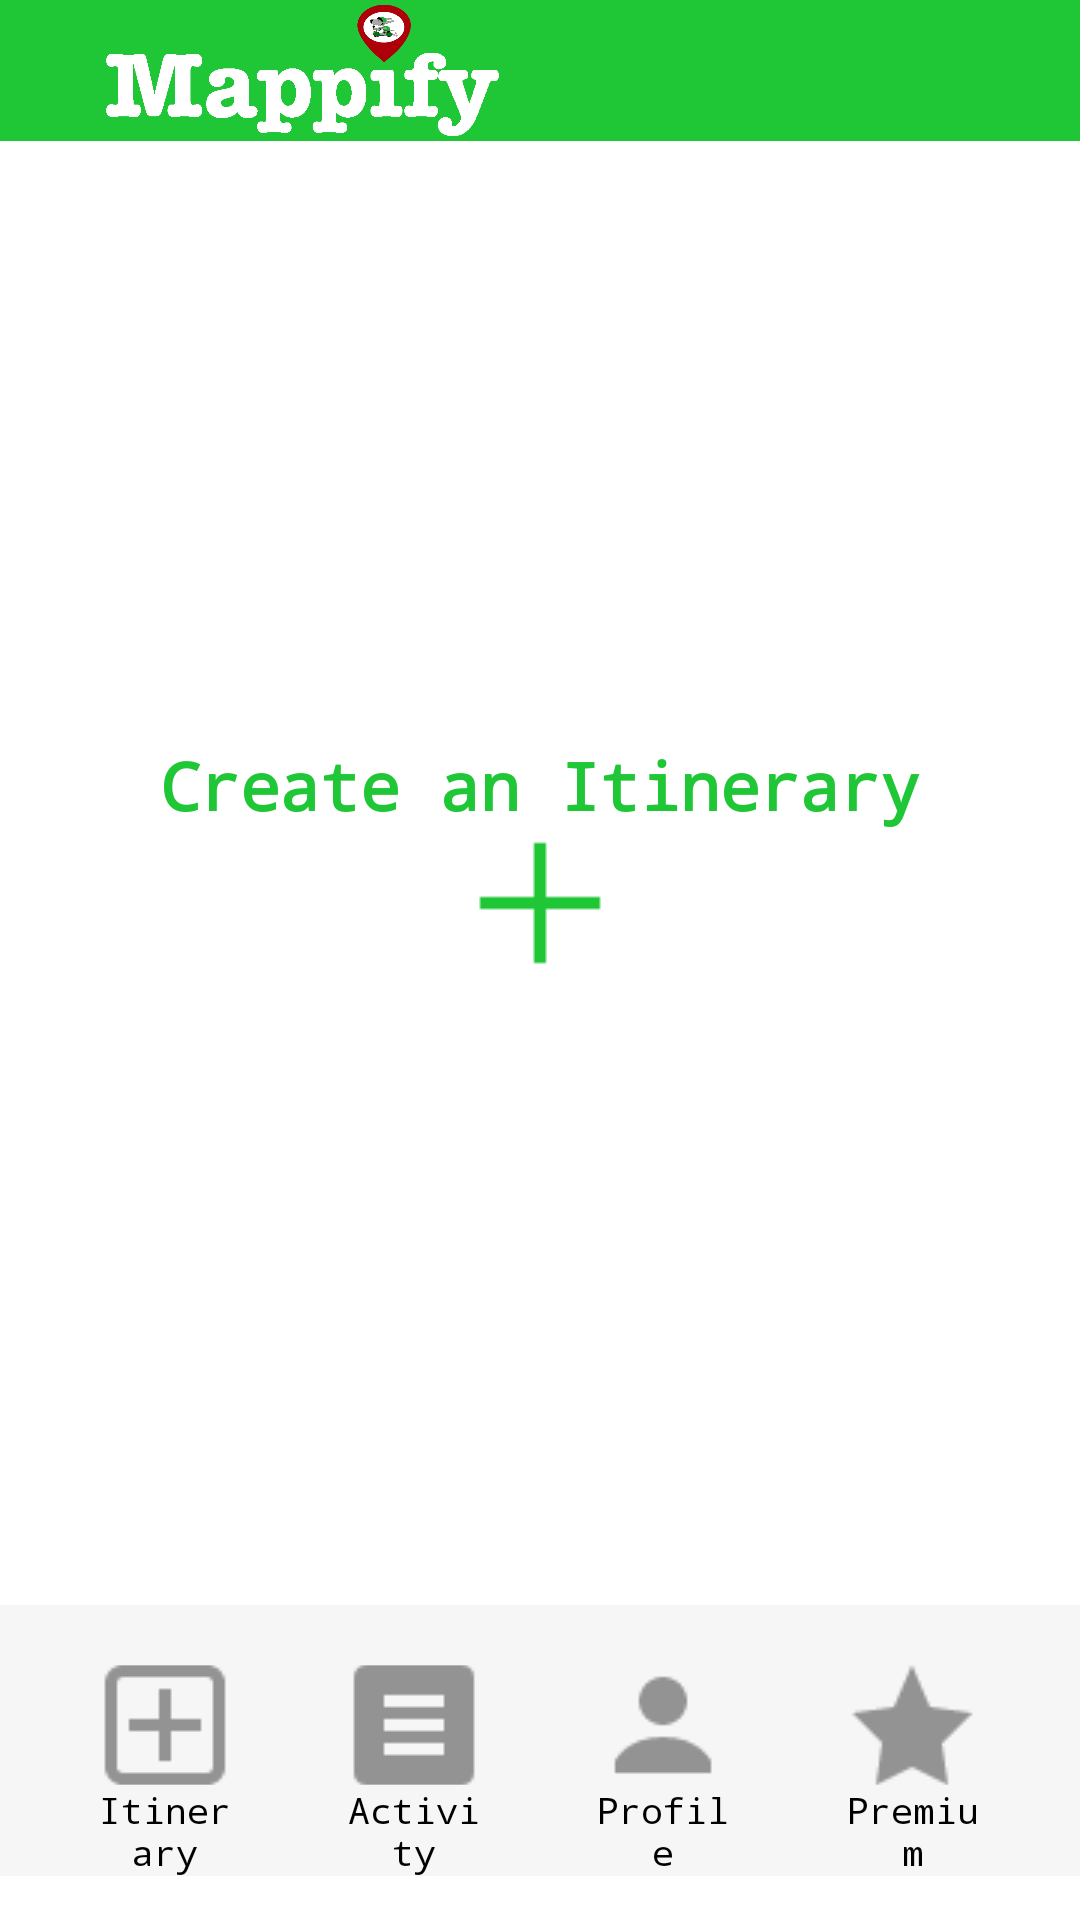

Named icons in this screenshot (1080 x 1920) and their bounding boxes, (x1, y1, x2, y2):
add: (479, 842, 601, 964)
